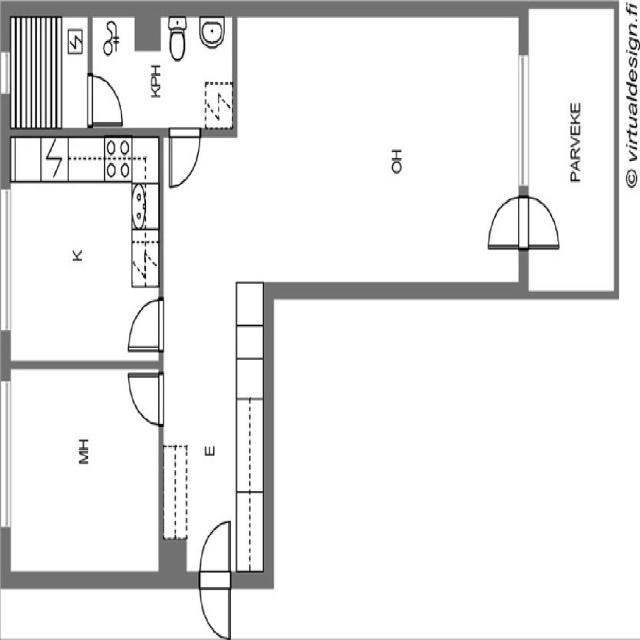door: (196, 516, 234, 637), (484, 190, 524, 250), (88, 69, 127, 128), (124, 295, 164, 352), (168, 127, 202, 191), (126, 368, 164, 425), (524, 193, 562, 248), (198, 581, 232, 638)
window: (513, 48, 535, 196), (0, 376, 17, 531), (1, 190, 14, 328), (0, 50, 11, 99)
zone: (234, 11, 521, 291), (158, 103, 270, 600), (6, 143, 158, 366), (6, 363, 162, 579), (524, 3, 618, 301), (93, 5, 235, 131), (5, 13, 90, 134)
